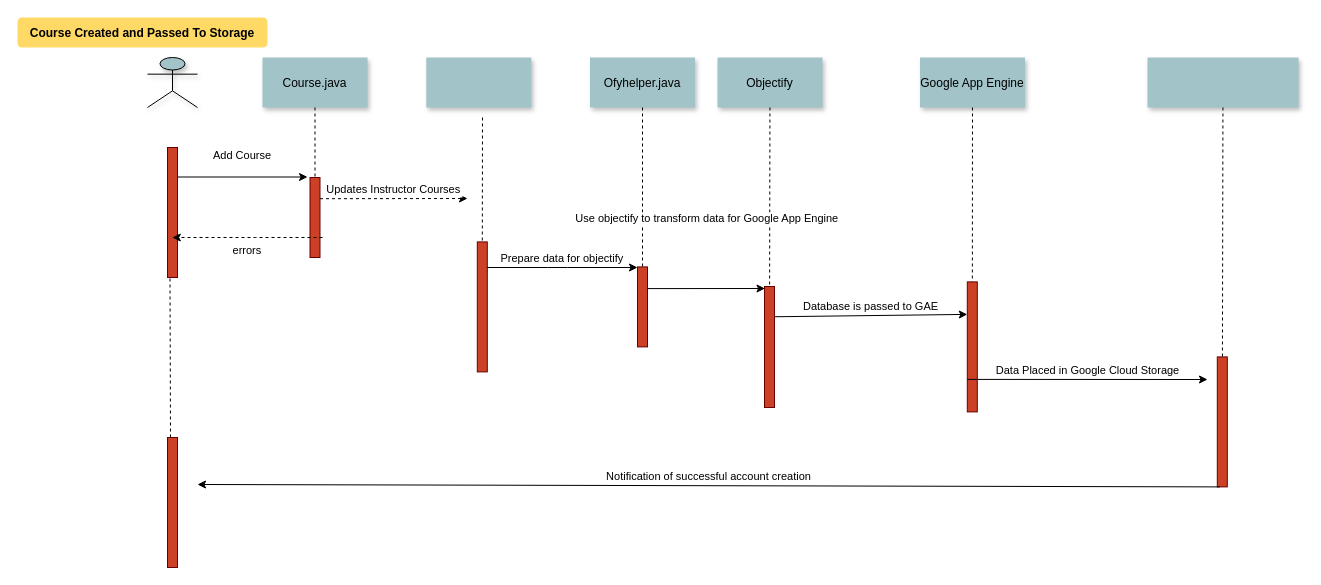
Image size: 1321x585. Some labels were removed from this diagram. Each missing label, with the centre of its shape:
Google Cloud Storage: [1223,83]
Instructor: [173,83]
Instructor.java: [479,83]
